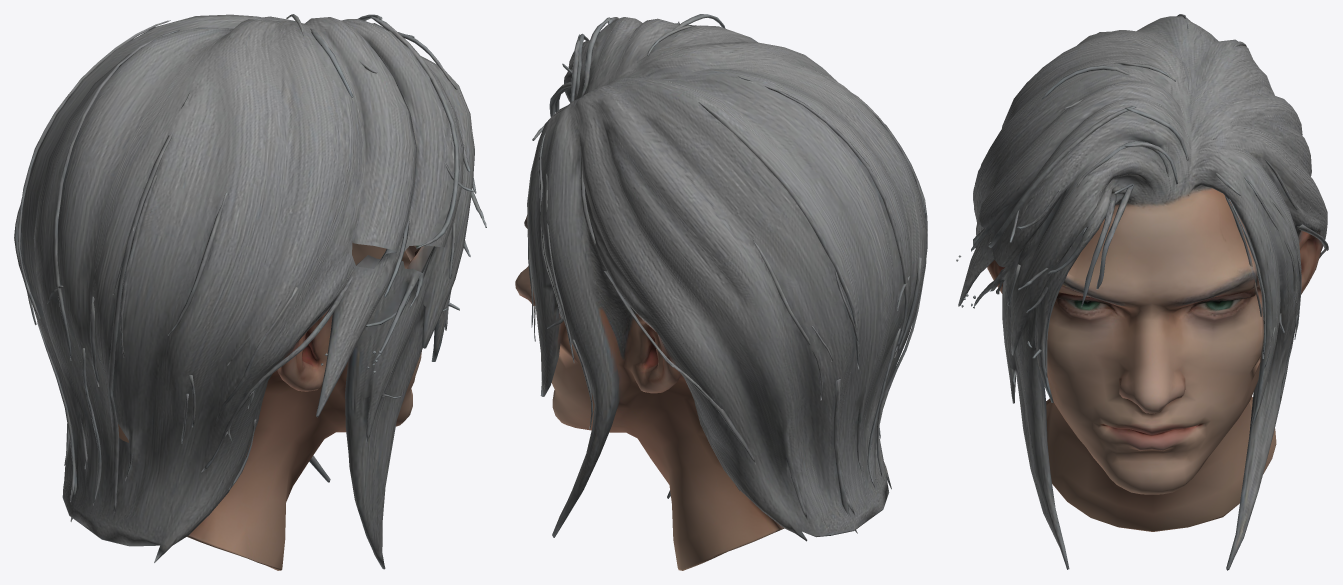
File: source.glb
3 views of the same model, side by side, from view 1: azimuth 30°, elevation 25°; view 2: azimuth 150°, elevation 25°; view 3: azimuth 270°, elevation 25° (orthographic). The views are drawn at different scales.
Parts seen in each view (by area): view 1: tripo_node_98411424-0747-4e02-aacf-932ad360d8ed; view 2: tripo_node_98411424-0747-4e02-aacf-932ad360d8ed; view 3: tripo_node_98411424-0747-4e02-aacf-932ad360d8ed.
Part boxes in pixels (x1,y1,x2,y2): tripo_node_98411424-0747-4e02-aacf-932ad360d8ed: (14, 14, 486, 570); tripo_node_98411424-0747-4e02-aacf-932ad360d8ed: (515, 14, 927, 570); tripo_node_98411424-0747-4e02-aacf-932ad360d8ed: (956, 14, 1328, 570).
Size of the model in its own units: 0.7906 by 1 by 0.6967.
Materials: 1 (1 with a texture image).
